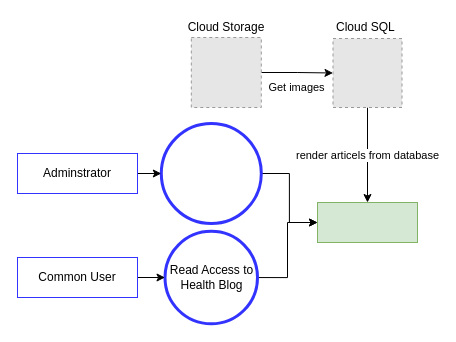
Some shapes in this 456 by 342 pixel diagram are drawn without their labels. Grey dashed boxes stand in for pictures. Each missing label, with the centre of its shape:
"Healthcare Articles" goes at [367,222].
"Read/ Add/ Delete Articles" goes at [210,173].
